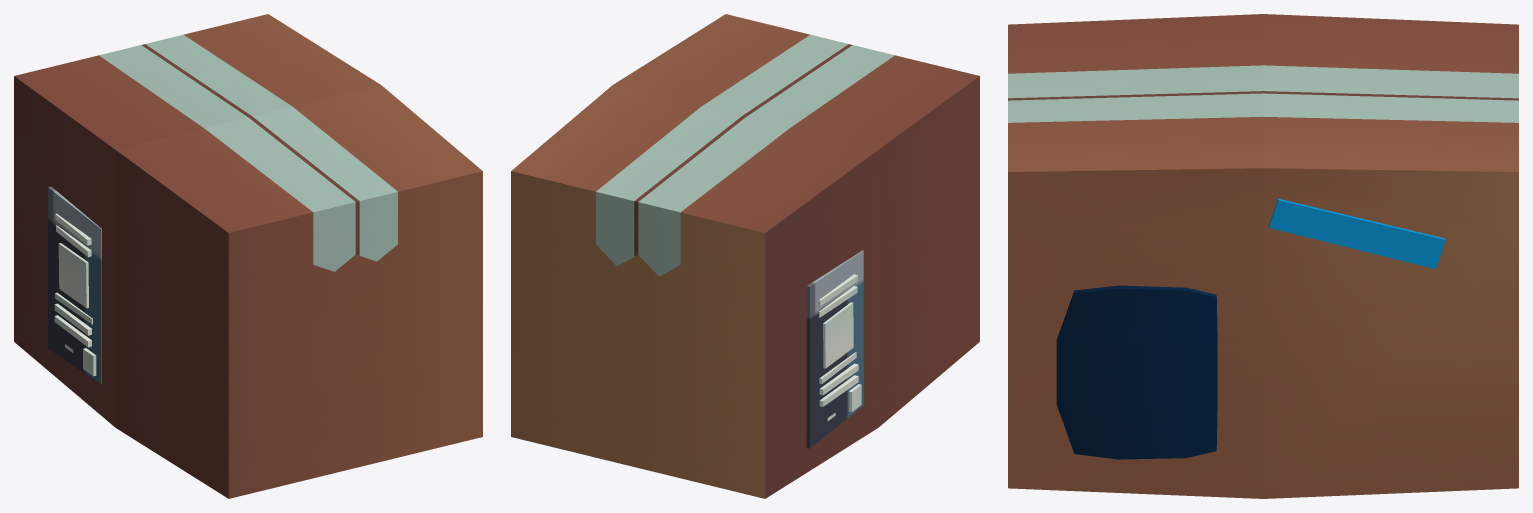
The model's file is Prop_CardboardBox02.fbx.
3 renders of one model, left to right at view 1: azimuth 30°, elevation 25°; view 2: azimuth 150°, elevation 25°; view 3: azimuth 270°, elevation 25°, orthographic. The views are drawn at different scales.
Visible parts, largest first — view 1: BezosBox.001; view 2: BezosBox.001; view 3: BezosBox.001.
Part boxes in pixels (x1,y1,x2,y2): BezosBox.001: [14, 14, 482, 498]; BezosBox.001: [511, 14, 979, 498]; BezosBox.001: [1008, 14, 1518, 498].
Bounding box in the file's own units: 43.46 × 42.18 × 59.03.
